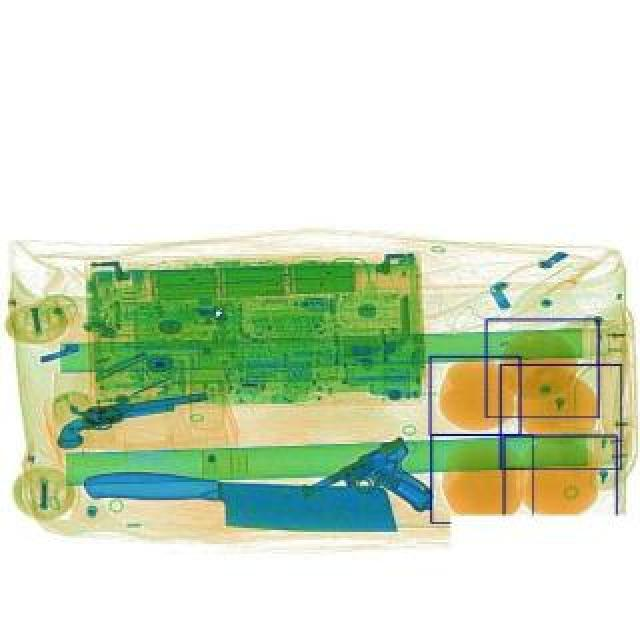gun: (294, 436, 442, 560), (50, 392, 210, 452)
knife: (80, 474, 396, 534)
